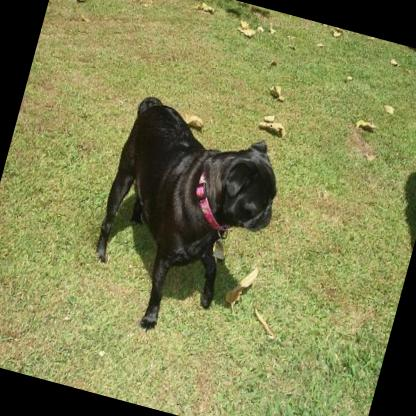pug: (75, 87, 298, 353)
